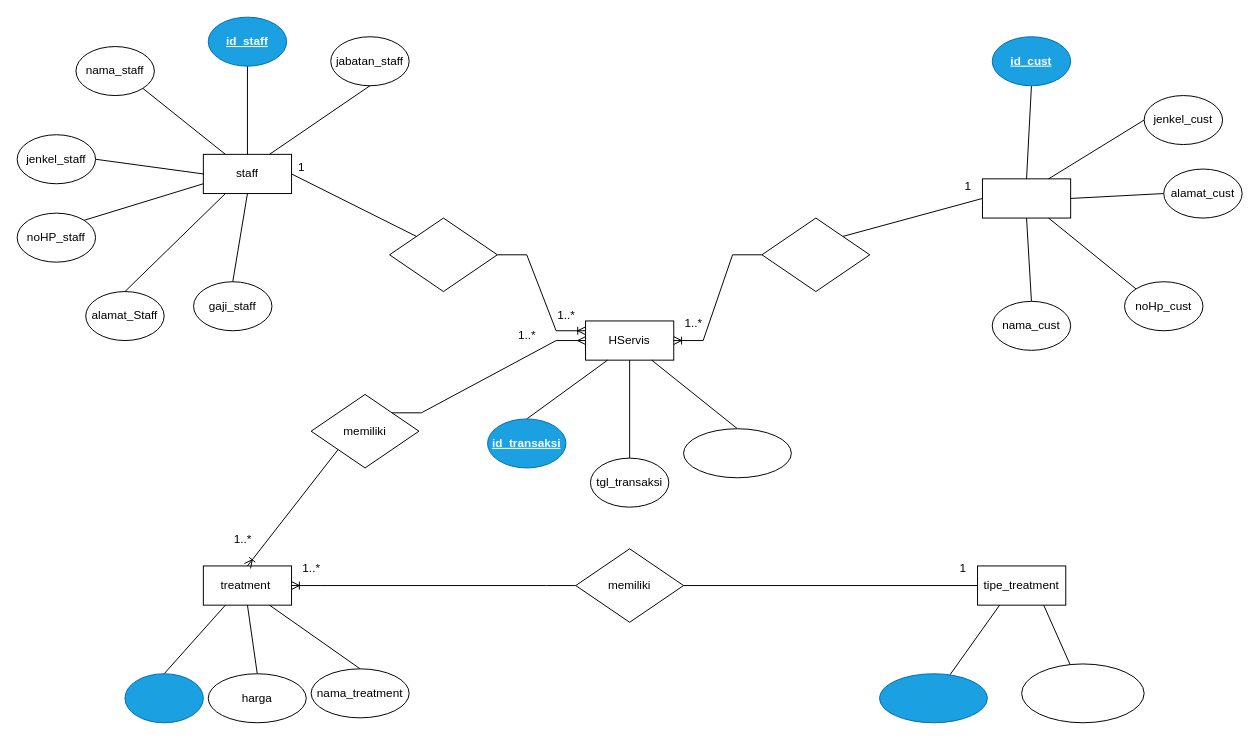
Some shapes in this 1259 by 740 pixel diagram are drawn without their labels. The centre of each missing label's shape, as x and y in pixels:
"custamer" belongs at (x=1026, y=198).
"id_tipeTreatment" belongs at (x=933, y=698).
"id_treatment" belongs at (x=163, y=698).
"memesan" belongs at (x=815, y=254).
"mengisi" belongs at (x=443, y=254).
"nama_tipeTreatment" belongs at (x=1082, y=693).
"tipe_pembayaran" belongs at (x=737, y=453).
